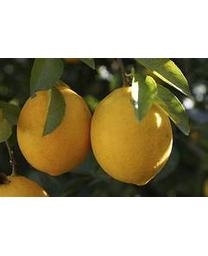lemon: (90, 86, 173, 186), (17, 86, 92, 175)
